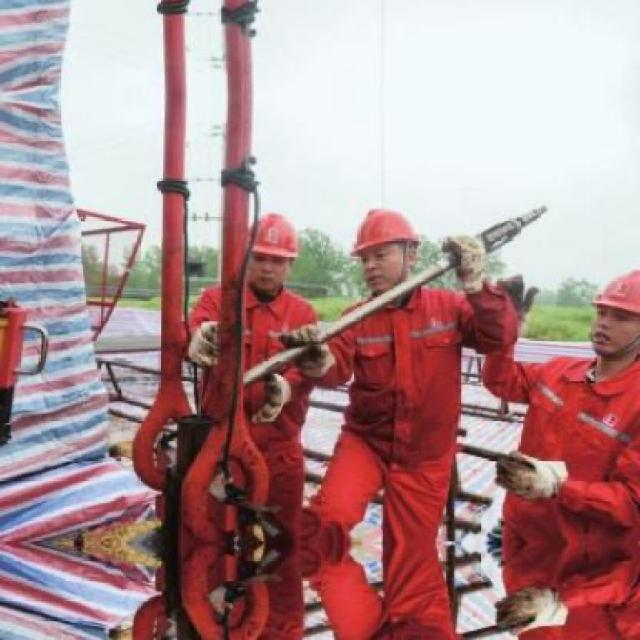helmet: (349, 198, 426, 292), (246, 204, 302, 298), (585, 265, 637, 357)
